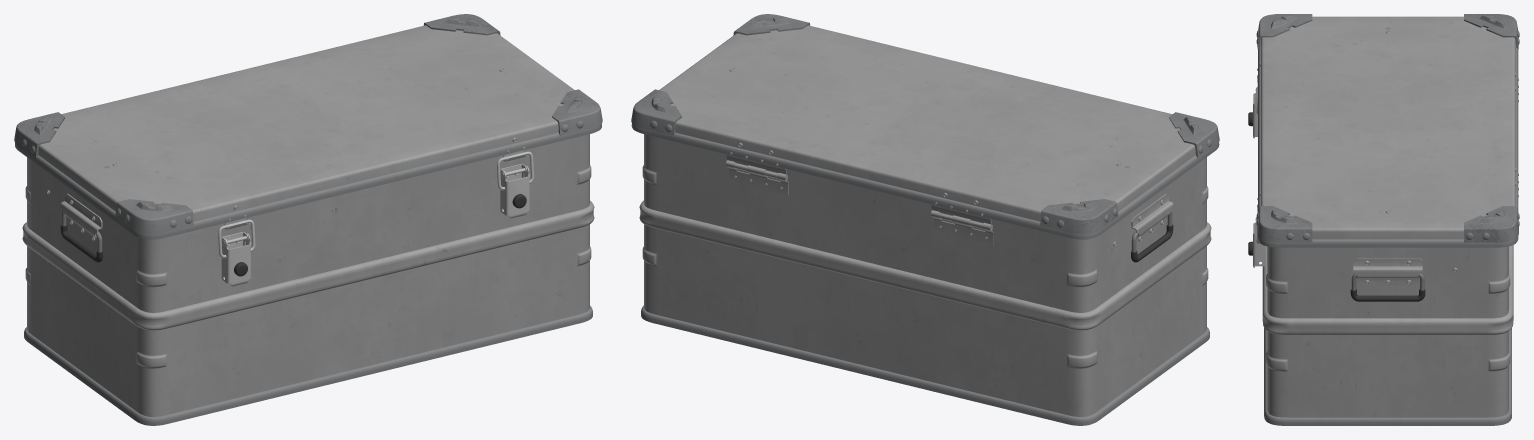
Rendered from case_c02.glb.
3 views of the same model, side by side, from view 1: azimuth 30°, elevation 25°; view 2: azimuth 150°, elevation 25°; view 3: azimuth 270°, elevation 25° (orthographic). The views are drawn at different scales.
Visible parts, largest first — view 1: sm_case_c02_mesh_00, sm_handleright_c02_mesh_00; view 2: sm_case_c02_mesh_00, sm_handleright_c02_mesh_00; view 3: sm_case_c02_mesh_00, sm_handleleft_c02_mesh_00.
Boxes of the visible parts, bbox=[...] form: sm_case_c02_mesh_00: bbox=[14, 14, 602, 425]; sm_handleright_c02_mesh_00: bbox=[60, 211, 102, 262]; sm_case_c02_mesh_00: bbox=[631, 14, 1219, 425]; sm_handleright_c02_mesh_00: bbox=[1131, 211, 1173, 262]; sm_case_c02_mesh_00: bbox=[1248, 14, 1519, 425]; sm_handleleft_c02_mesh_00: bbox=[1350, 273, 1425, 301].
Size of the model in its own units: 0.8192 by 0.3582 by 0.4325.
Materials: 5 (4 with a texture image).
